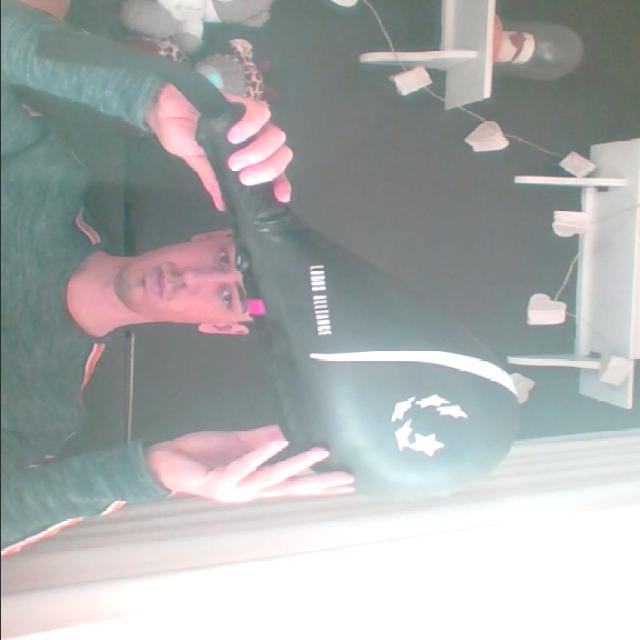paddle: (193, 102, 524, 502)
